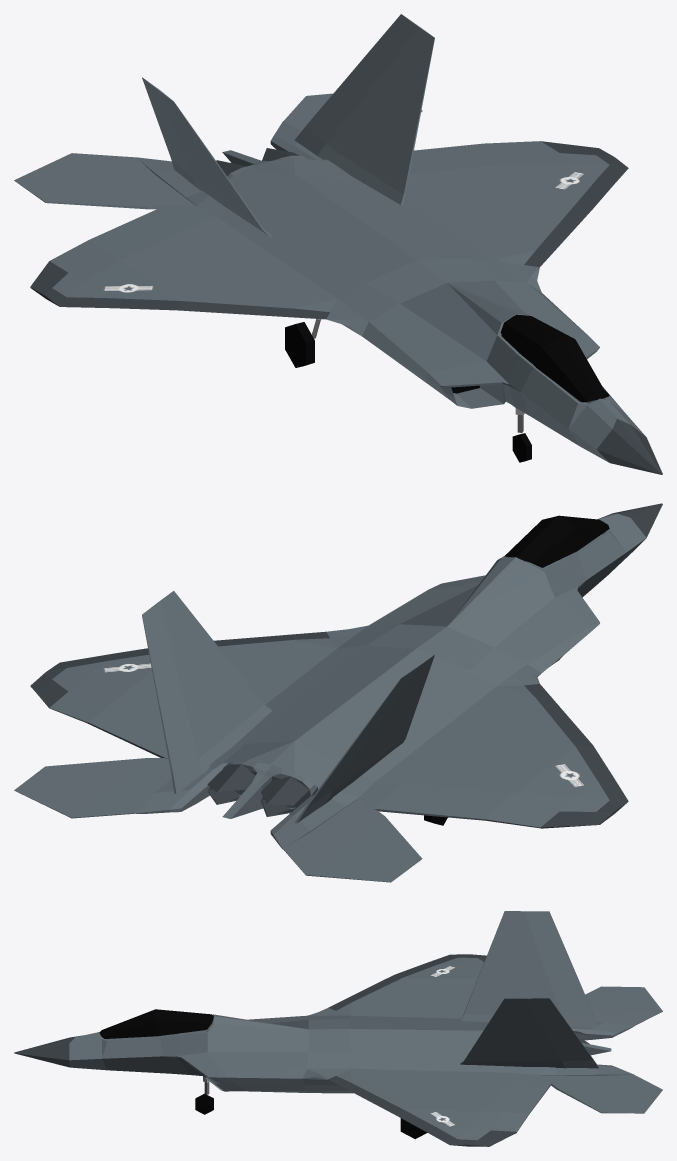
3 views of the same model, one above another, from view 1: azimuth 30°, elevation 25°; view 2: azimuth 150°, elevation 25°; view 3: azimuth 270°, elevation 25° (orthographic). The views are drawn at different scales.
Visible parts, largest first — view 1: body.004, R_elevator.004, Windshield.004, L_rudder.004, R_Flap.004, L_Flap.004, R_rudder.004, Landing gear_RR.004, R_ailerone.004, L_elevator.004, L_ailerone.004; view 2: body.004, R_elevator.004, L_elevator.004, L_rudder.004, R_Flap.004, Windshield.004, L_Flap.004, R_rudder.004, R_ailerone.004, L_ailerone.004; view 3: body.004, L_elevator.004, R_rudder.004, R_elevator.004, Windshield.004, L_rudder.004, L_Flap.004, L_ailerone.004, Landing gear_F.004.
Boxes of the visible parts, box(x1,y1,x2,y2) form: body.004: box(30, 27, 662, 474); R_elevator.004: box(14, 153, 195, 209); Windshield.004: box(500, 314, 609, 402); L_rudder.004: box(305, 14, 419, 143); R_Flap.004: box(89, 205, 196, 259); L_Flap.004: box(409, 143, 515, 173); R_rudder.004: box(142, 77, 192, 176); Landing gear_RR.004: box(285, 319, 320, 367); R_ailerone.004: box(50, 240, 107, 272); L_elevator.004: box(283, 93, 422, 130); L_ailerone.004: box(484, 141, 558, 155); body.004: box(30, 503, 662, 849); R_elevator.004: box(283, 798, 422, 882); L_elevator.004: box(14, 758, 171, 818); L_rudder.004: box(142, 601, 199, 774); R_Flap.004: box(374, 783, 515, 820); Windshield.004: box(503, 515, 609, 567); L_Flap.004: box(88, 696, 167, 758); R_rudder.004: box(305, 664, 420, 807); R_ailerone.004: box(484, 803, 559, 828); L_ailerone.004: box(49, 691, 107, 723); body.004: box(14, 911, 634, 1146); L_elevator.004: box(541, 1074, 662, 1113); R_rudder.004: box(524, 911, 593, 1016); R_elevator.004: box(585, 986, 662, 1025); Windshield.004: box(99, 1009, 213, 1038); L_rudder.004: box(524, 998, 593, 1060); L_Flap.004: box(486, 1080, 551, 1114); L_ailerone.004: box(491, 1112, 528, 1131); Landing gear_F.004: box(195, 1077, 213, 1114).
Bounding box in the file's own units: 1287 × 503 × 1852.
